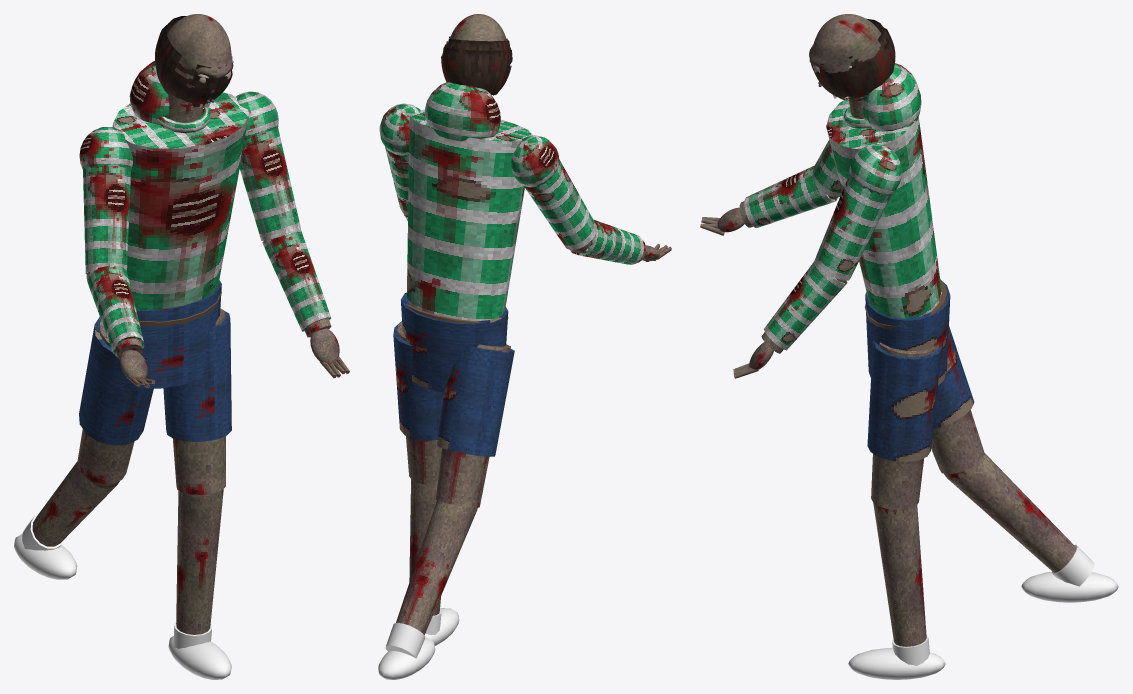
File: Zombie_005.glb
3 views of the same model, side by side, from view 1: azimuth 30°, elevation 25°; view 2: azimuth 150°, elevation 25°; view 3: azimuth 270°, elevation 25° (orthographic). The views are drawn at different scales.
Parts seen in each view (by area): view 1: Zombie_005, object 12, object 18, object 4, object 42, object 41, object 13, object 5; view 2: Zombie_005, object 42, object 4, object 18, object 41; view 3: Zombie_005, object 12, object 18, object 4, object 42, object 41.
Boxes of the visible parts, x1=… form: Zombie_005: x1=14, y1=61, x2=300, y2=679; object 12: x1=262, y1=229, x2=331, y2=331; object 18: x1=167, y1=14, x2=232, y2=99; object 4: x1=86, y1=265, x2=144, y2=357; object 42: x1=155, y1=25, x2=232, y2=106; object 41: x1=160, y1=16, x2=233, y2=104; object 13: x1=310, y1=328, x2=339, y2=363; object 5: x1=120, y1=350, x2=148, y2=378; Zombie_005: x1=378, y1=82, x2=596, y2=679; object 42: x1=441, y1=48, x2=512, y2=95; object 4: x1=570, y1=219, x2=643, y2=264; object 18: x1=450, y1=14, x2=506, y2=41; object 41: x1=442, y1=36, x2=510, y2=65; Zombie_005: x1=812, y1=63, x2=1118, y2=679; object 12: x1=764, y1=262, x2=847, y2=350; object 18: x1=809, y1=14, x2=881, y2=80; object 4: x1=744, y1=165, x2=837, y2=227; object 42: x1=811, y1=27, x2=895, y2=101; object 41: x1=811, y1=18, x2=888, y2=99.
Bounding box in the file's own units: 0.6964 × 1.95 × 1.14.
Materials: 16 (6 with a texture image).
